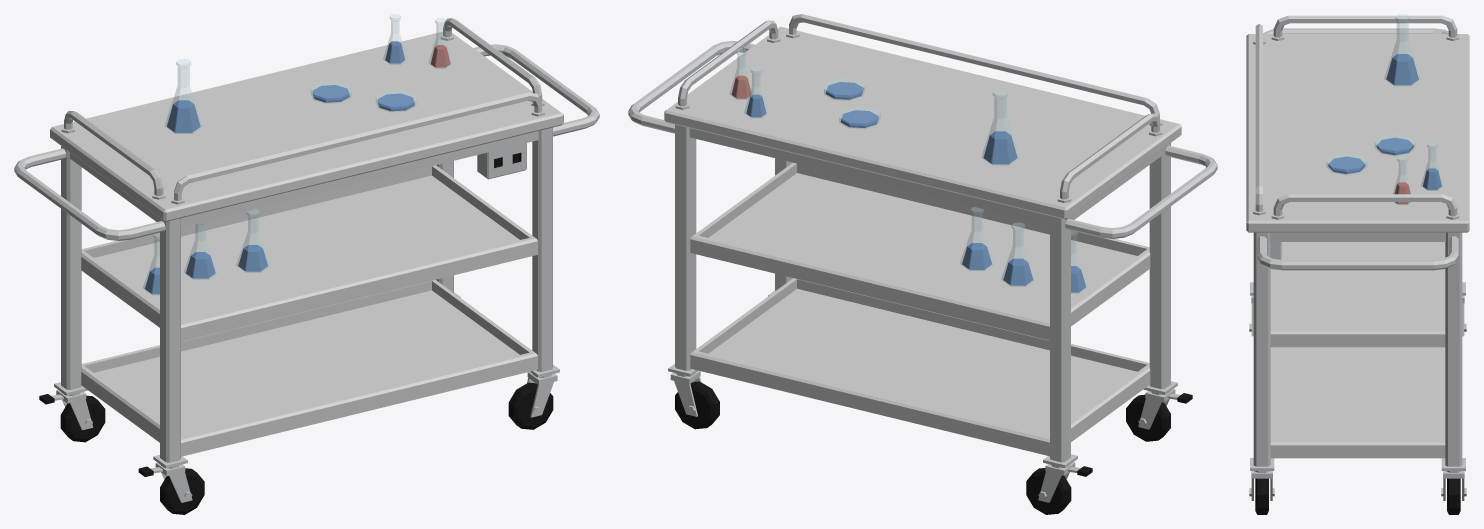
Rendered from mobile-bench-cart-4b3ff5.glb.
3 renders of one model, left to right at view 1: azimuth 30°, elevation 25°; view 2: azimuth 150°, elevation 25°; view 3: azimuth 270°, elevation 25°, orthographic. The views are drawn at different scales.
Parts seen in each view (by area): view 1: cart-body, shelf-flasks-glass, shelf-flasks-solution, flask-glass, petri-dishes-glass, reagent-flasks-glass, tyre-fr, tyre-rl, tyre-fl, petri-dishes-solution, flask-solution, castor-rl (+3 smaller); view 2: cart-body, shelf-flasks-glass, shelf-flasks-solution, flask-glass, petri-dishes-glass, reagent-flasks-glass, tyre-rr, tyre-rl, tyre-fl, petri-dishes-solution, flask-solution, castor-fl (+3 smaller); view 3: cart-body, flask-glass, petri-dishes-glass, reagent-flasks-glass, petri-dishes-solution, flask-solution, reagent-flasks-solution, tyre-fr, tyre-rr, castor-fr, castor-rr.
Part boxes in pixels (x1=…): cart-body: x1=14, y1=18, x2=599, y2=468; shelf-flasks-glass: x1=143, y1=209, x2=270, y2=294; shelf-flasks-solution: x1=145, y1=245, x2=267, y2=294; flask-glass: x1=165, y1=59, x2=202, y2=133; petri-dishes-glass: x1=311, y1=81, x2=416, y2=111; reagent-flasks-glass: x1=383, y1=14, x2=452, y2=68; tyre-fr: x1=508, y1=382, x2=553, y2=429; tyre-rl: x1=60, y1=395, x2=105, y2=442; tyre-fl: x1=160, y1=468, x2=204, y2=514; petri-dishes-solution: x1=312, y1=85, x2=414, y2=111; flask-solution: x1=167, y1=100, x2=200, y2=132; castor-rl: x1=39, y1=390, x2=93, y2=429; cart-body: x1=628, y1=14, x2=1217, y2=467; shelf-flasks-glass: x1=960, y1=207, x2=1088, y2=293; shelf-flasks-solution: x1=962, y1=243, x2=1085, y2=292; flask-glass: x1=981, y1=90, x2=1019, y2=164; petri-dishes-glass: x1=824, y1=78, x2=880, y2=128; reagent-flasks-glass: x1=729, y1=48, x2=768, y2=117; tyre-rr: x1=675, y1=381, x2=719, y2=429; tyre-rl: x1=1026, y1=468, x2=1071, y2=514; tyre-fl: x1=1126, y1=394, x2=1170, y2=441; petri-dishes-solution: x1=826, y1=82, x2=878, y2=127; flask-solution: x1=983, y1=131, x2=1017, y2=164; castor-fl: x1=1138, y1=389, x2=1192, y2=429; cart-body: x1=1246, y1=15, x2=1469, y2=470; flask-glass: x1=1384, y1=14, x2=1420, y2=85; petri-dishes-glass: x1=1326, y1=134, x2=1415, y2=174; reagent-flasks-glass: x1=1393, y1=142, x2=1443, y2=204; petri-dishes-solution: x1=1328, y1=137, x2=1413, y2=174; flask-solution: x1=1386, y1=54, x2=1418, y2=85; reagent-flasks-solution: x1=1394, y1=168, x2=1441, y2=204; tyre-fr: x1=1255, y1=478, x2=1268, y2=514; tyre-rr: x1=1447, y1=478, x2=1460, y2=514; castor-fr: x1=1249, y1=471, x2=1274, y2=500; castor-rr: x1=1441, y1=471, x2=1466, y2=500.
Bounding box in the file's own units: 1.5 × 1.09 × 0.6.
